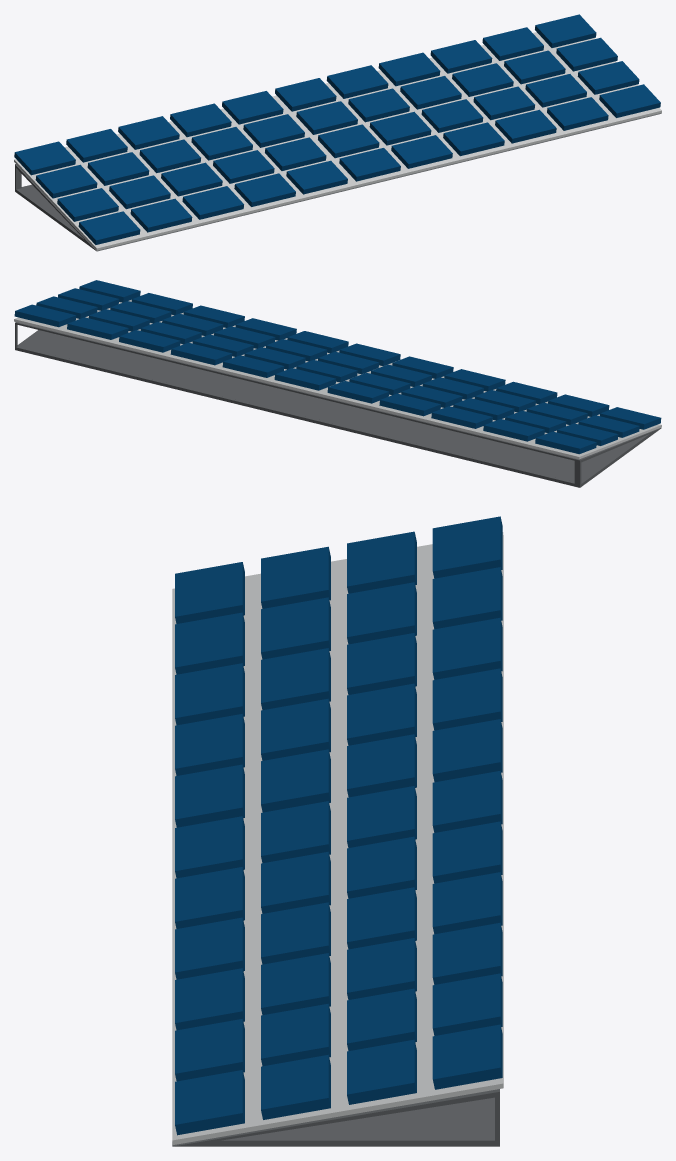
The model's file is solar-panel-4x11-small.glb.
The picture shows the model from 3 angles, top to bottom: view 1: azimuth 30°, elevation 25°; view 2: azimuth 150°, elevation 25°; view 3: azimuth 270°, elevation 25°; orthographic projection. The views are drawn at different scales.
Parts seen in each view (by area): view 1: Mesh_Mesh_head_geo.001_lambert2SG.001; view 2: Mesh_Mesh_head_geo.001_lambert2SG.001; view 3: Mesh_Mesh_head_geo.001_lambert2SG.001.
Boxes of the visible parts, x1,y1,x2,y2 form: Mesh_Mesh_head_geo.001_lambert2SG.001: [14, 14, 661, 251]; Mesh_Mesh_head_geo.001_lambert2SG.001: [14, 280, 661, 487]; Mesh_Mesh_head_geo.001_lambert2SG.001: [172, 516, 503, 1146].
Size of the model in its own units: 336 by 22.37 by 85.39.
